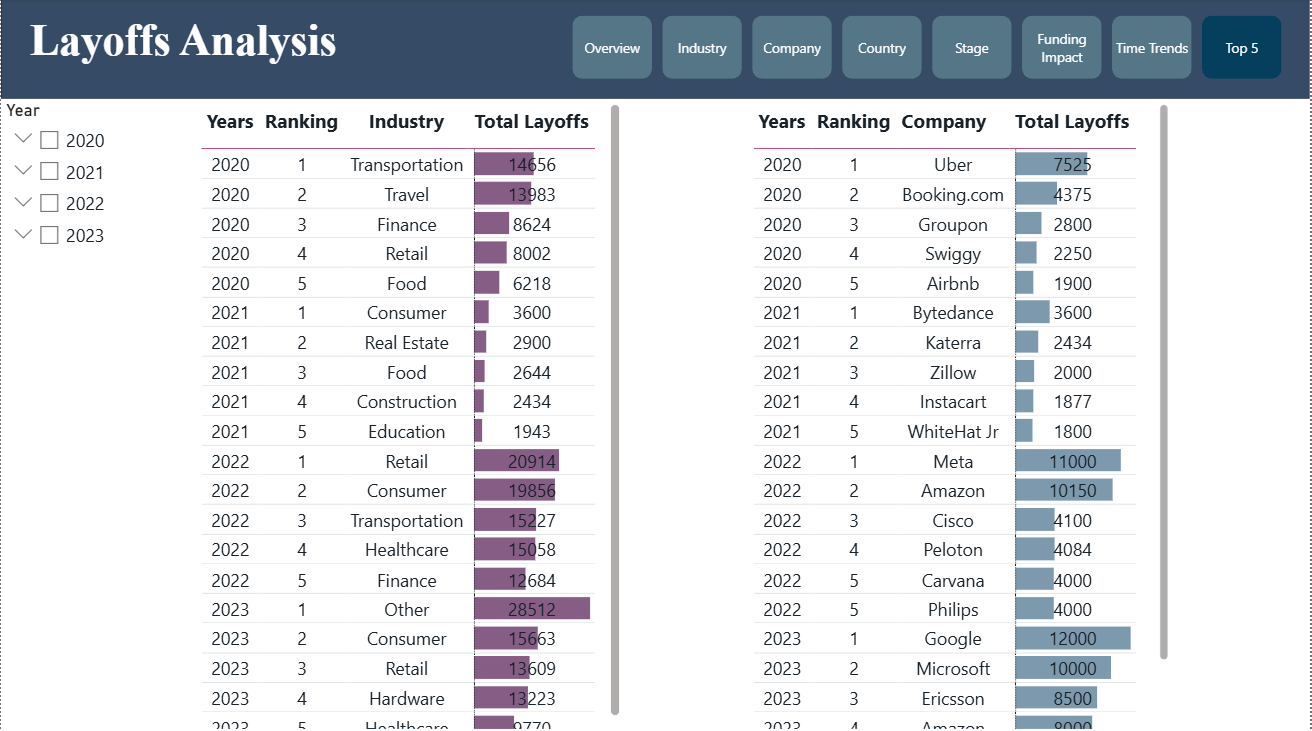

Layout of this report page (visuals, bound fields, positions):
{"tool":"powerbi","page":{"name":"Top 5","canvas":[1280,720],"ordinal":7},"visuals":[{"type":"shape","box":[0,0,1280.3,98.8],"z":0},{"type":"textbox","box":[23.3,12.3,333.4,74.1],"z":1000},{"type":"pageNavigator","box":[558.8,17.1,701.9,62.4],"z":2000},{"type":"tableEx","fields":{"Values":["Top 5 Industries.years","Top 5 Industries.Ranking","Top 5 Industries.industry","Sum(Top 5 Industries.total_laid_off)"]},"box":[189.5,99,420.7,621.2],"z":3000},{"type":"tableEx","fields":{"Values":["Top 5 Companies.years","Top 5 Companies.Ranking","Top 5 Companies.company","Sum(Top 5 Companies.total_laid_off)"]},"box":[730,99,417,621.2],"z":4000},{"type":"slicer","title":"Year","fields":{"Values":["layoffs_projcet layoffs.date.Variation.Date Hierarchy.Year","layoffs_projcet layoffs.date.Variation.Date Hierarchy.Quarter","layoffs_projcet layoffs.date.Variation.Date Hierarchy.Month","layoffs_projcet layoffs.date.Variation.Date Hierarchy.Day"]},"box":[0,99,150.4,196.9],"z":5000}]}

Visuals, with their boxes in screenshot pixels (x1, y1, x2, y2), scaled from the page's 1280x720 canvas onto the 1312x731 screenshot:
shape: select_region(0, 0, 1311, 100)
textbox: select_region(24, 12, 366, 88)
pageNavigator: select_region(573, 17, 1292, 81)
tableEx - Top 5 Industries.years x Top 5 Industries.Ranking: select_region(194, 101, 625, 730)
tableEx - Top 5 Companies.years x Top 5 Companies.Ranking: select_region(748, 101, 1176, 730)
"Year" slicer: select_region(0, 101, 154, 300)
